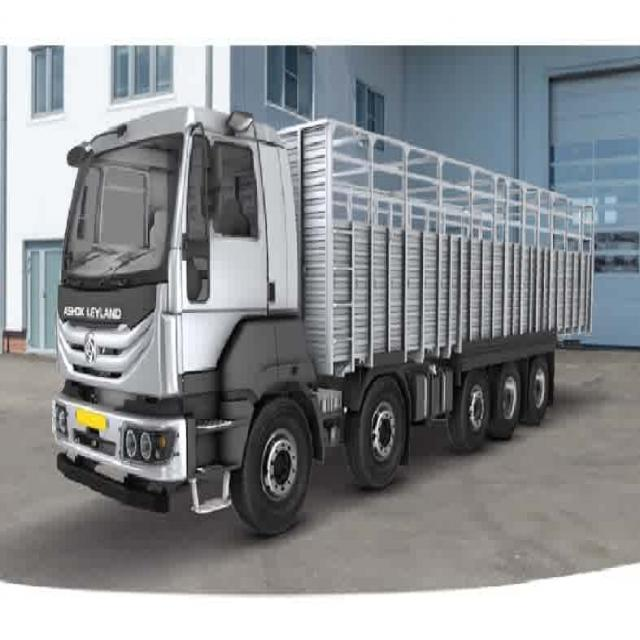Truck: (49, 96, 596, 534)
